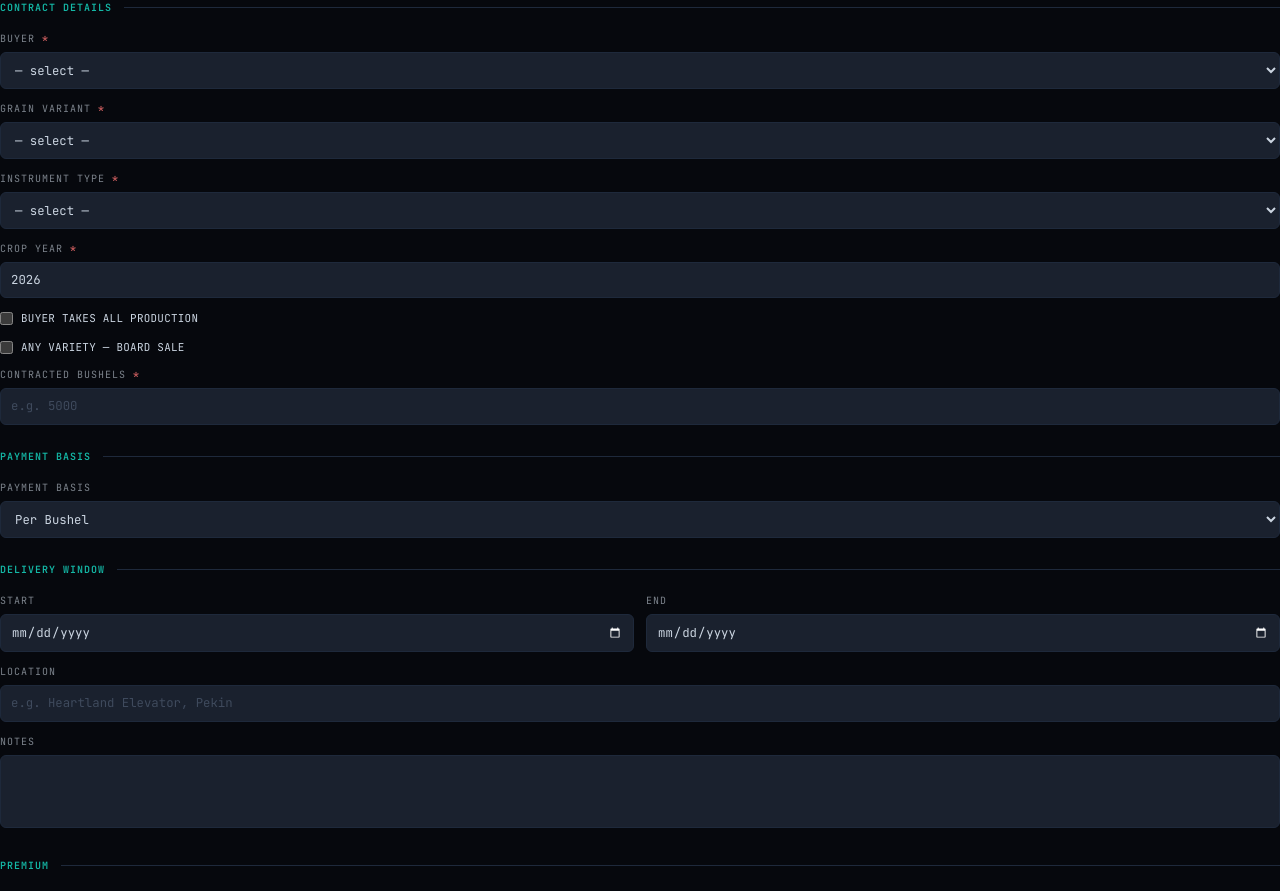
Test: ContractForm › shows futuresPrice field when instrument is PRICED
The image size is (1280, 891).
Select "Priced" in the dropdown labelled "Instrument Type *" at (640, 210), box [0, 192, 1279, 229]
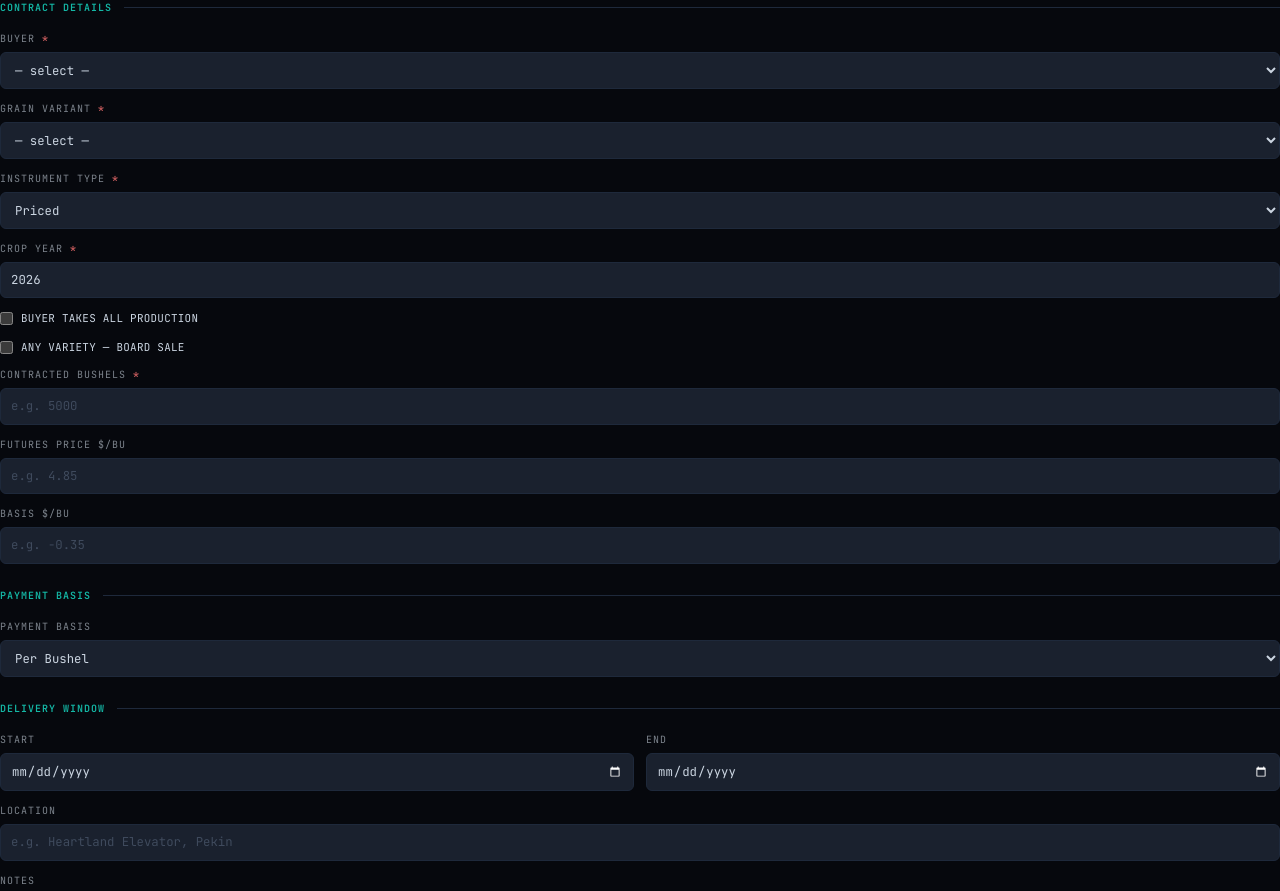
Expected: the number field labelled "Futures Price $/bu" is shown, [0, 458, 1279, 494]
Expected: the number field labelled "Basis $/bu" is shown, [0, 527, 1279, 564]
